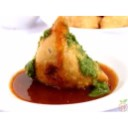samosa: (27, 17, 107, 87)
